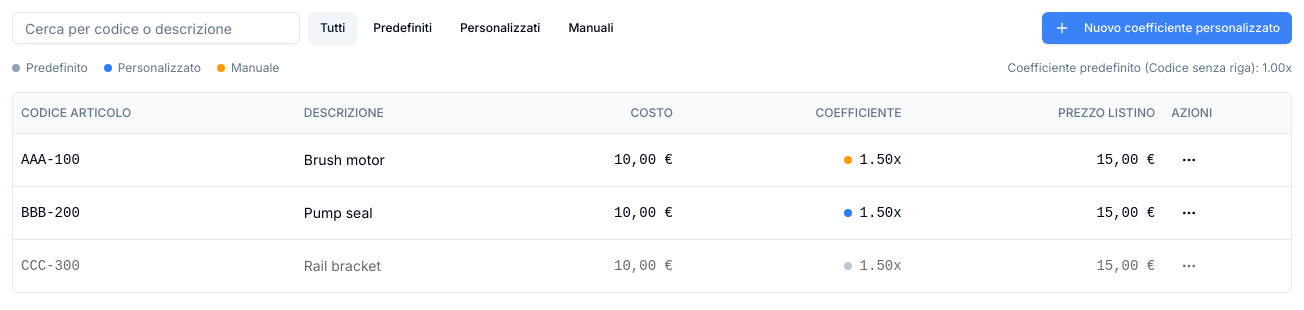
Test: CoefficientsTable — client-side text filter › filters by part number (case-insensitive)
Type "bbb" into the field labelled "Cerca per codice o descrizione".
click(156, 28); type("bbb")  # box [12,12,300,44]
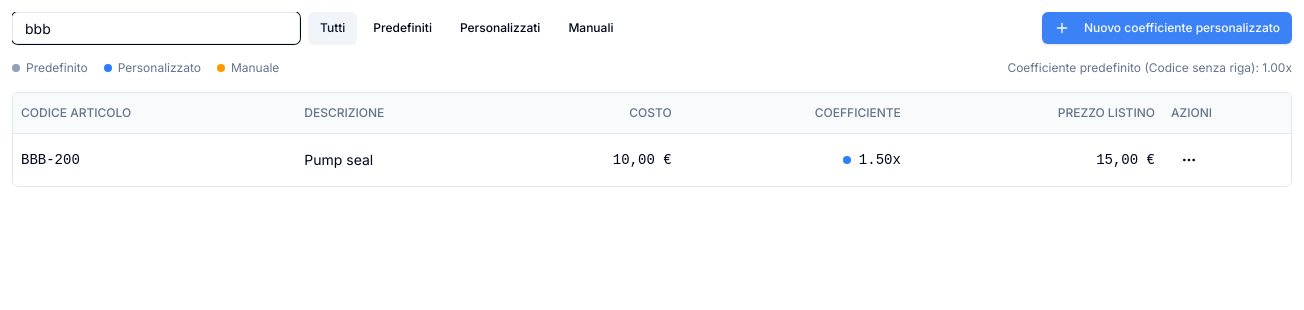
Check: the text "BBB-200" is shown, box [13,133,296,186]
Check: the text "AAA-100" is gone
Check: the text "CCC-300" is gone
